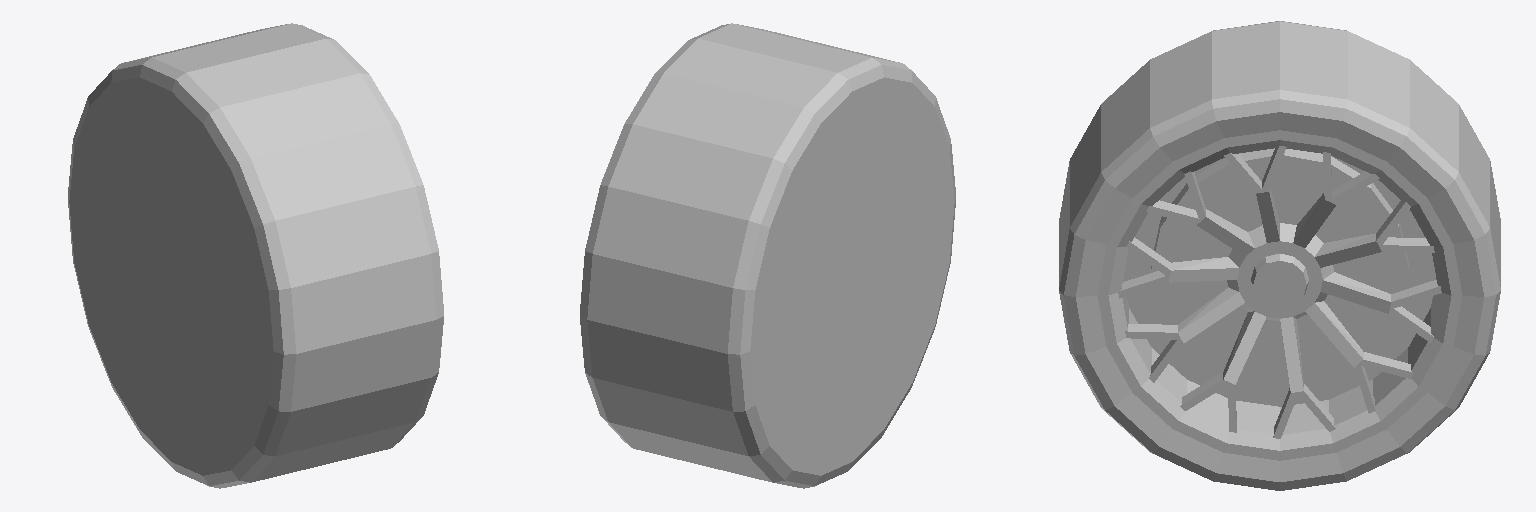
The model's file is Wheel.obj.
3 renders of one model, left to right at view 1: azimuth 30°, elevation 25°; view 2: azimuth 150°, elevation 25°; view 3: azimuth 270°, elevation 25°, orthographic.
Parts seen in each view (by area): view 1: Wheel_FL Lamborginhi_Aventador; view 2: Wheel_FL Lamborginhi_Aventador; view 3: Wheel_FL Lamborginhi_Aventador.
Boxes of the visible parts, x1=… form: Wheel_FL Lamborginhi_Aventador: x1=68, y1=23, x2=443, y2=488; Wheel_FL Lamborginhi_Aventador: x1=580, y1=23, x2=955, y2=488; Wheel_FL Lamborginhi_Aventador: x1=1059, y1=21, x2=1500, y2=490.
Size of the model in its own units: 30.5 by 69.12 by 69.12.